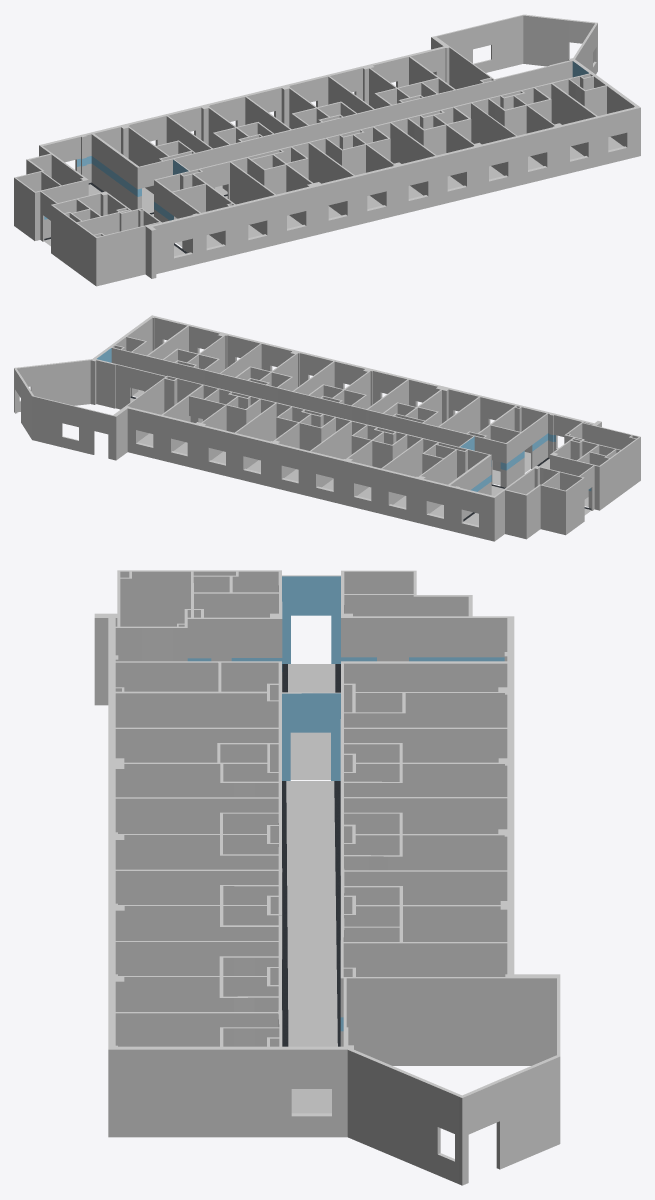
The model's file is Palata2Block.fbx.
The picture shows the model from 3 angles, top to bottom: view 1: azimuth 30°, elevation 25°; view 2: azimuth 150°, elevation 25°; view 3: azimuth 270°, elevation 25°; orthographic projection. The views are drawn at different scales.
Parts seen in each view (by area): view 1: Plane; view 2: Plane; view 3: Plane.
Part boxes in pixels (x1,y1,x2,y2): Plane: [14, 14, 640, 286]; Plane: [14, 315, 640, 541]; Plane: [94, 570, 560, 1185].
Size of the model in its own units: 5425 by 420 by 2023.
